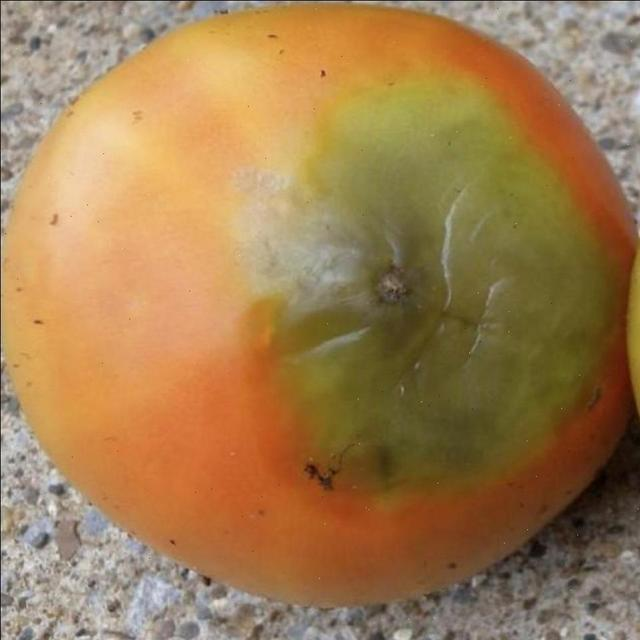Sunscald Fruit: (164, 30, 413, 336)
